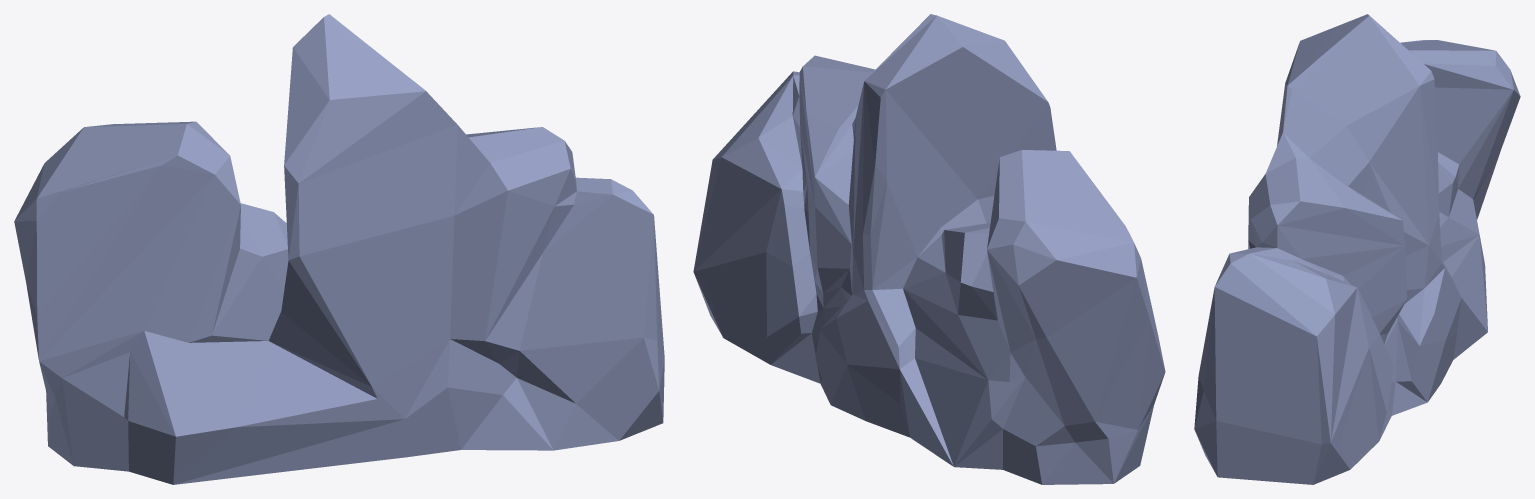
The model's file is Rock_Formation_3.fbx.
3 views of the same model, side by side, from view 1: azimuth 30°, elevation 25°; view 2: azimuth 150°, elevation 25°; view 3: azimuth 270°, elevation 25° (orthographic). The views are drawn at different scales.
Visible parts, largest first — view 1: Rock_Formation_3; view 2: Rock_Formation_3; view 3: Rock_Formation_3.
Part boxes in pixels (box(x1,y1,x2,y2)): Rock_Formation_3: box(14, 14, 664, 484); Rock_Formation_3: box(693, 14, 1165, 484); Rock_Formation_3: box(1194, 14, 1520, 484).
Size of the model in its own units: 16.71 by 11.99 by 9.96.
